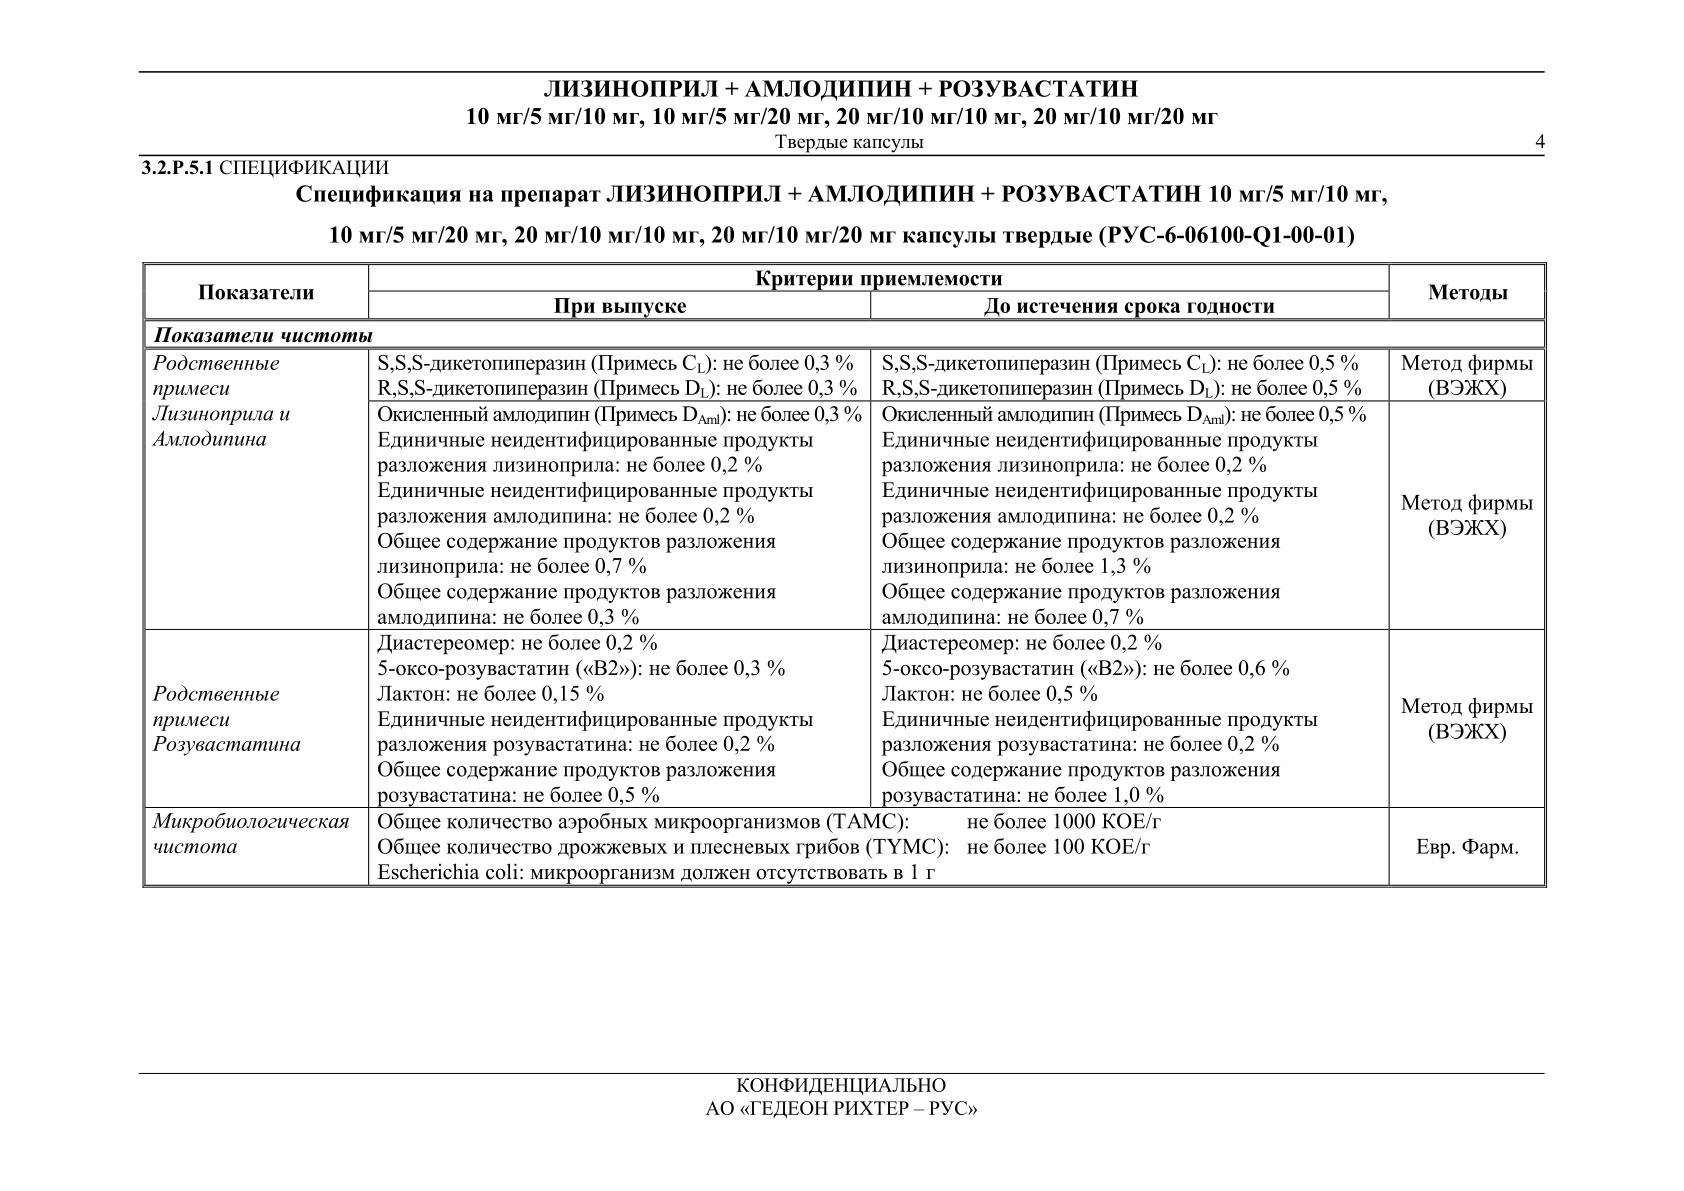merged_cells: (142, 260, 1547, 888)
